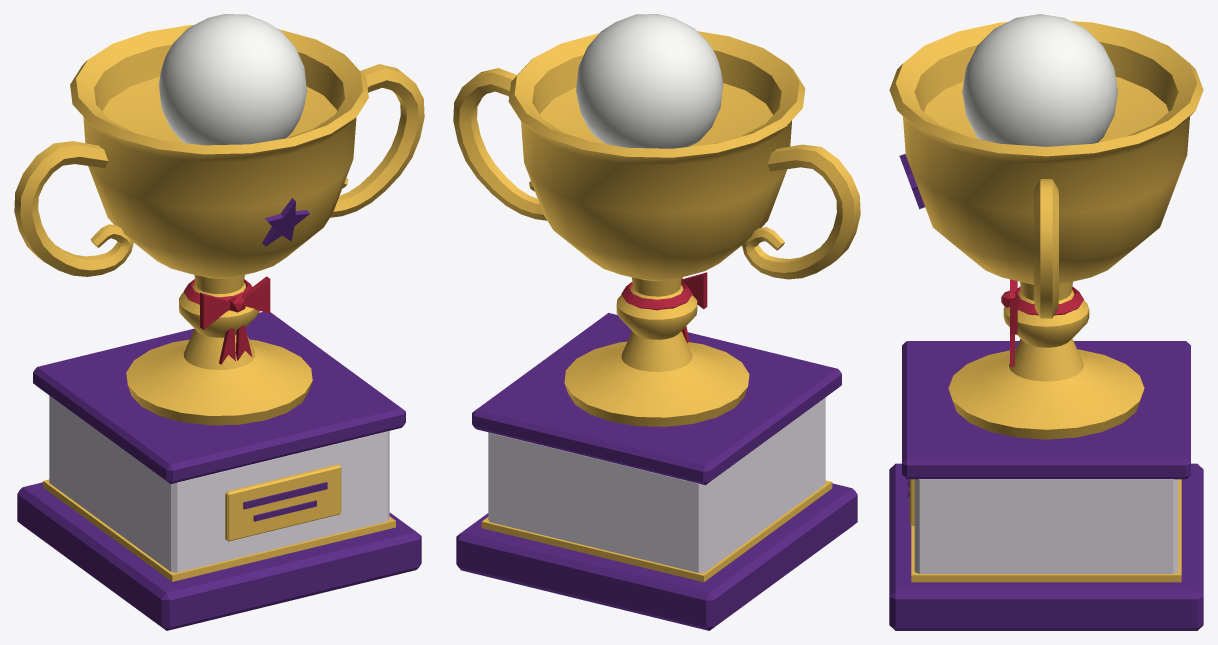
File: trophy.glb
3 views of the same model, side by side, from view 1: azimuth 30°, elevation 25°; view 2: azimuth 150°, elevation 25°; view 3: azimuth 270°, elevation 25° (orthographic). The views are drawn at different scales.
Visible parts, largest first — view 1: trophy; view 2: trophy; view 3: trophy.
Boxes of the visible parts, bbox=[...] form: trophy: bbox=[14, 14, 424, 630]; trophy: bbox=[453, 14, 860, 630]; trophy: bbox=[889, 14, 1203, 630].
Size of the model in its own units: 3.88 by 4.84 by 2.5.
